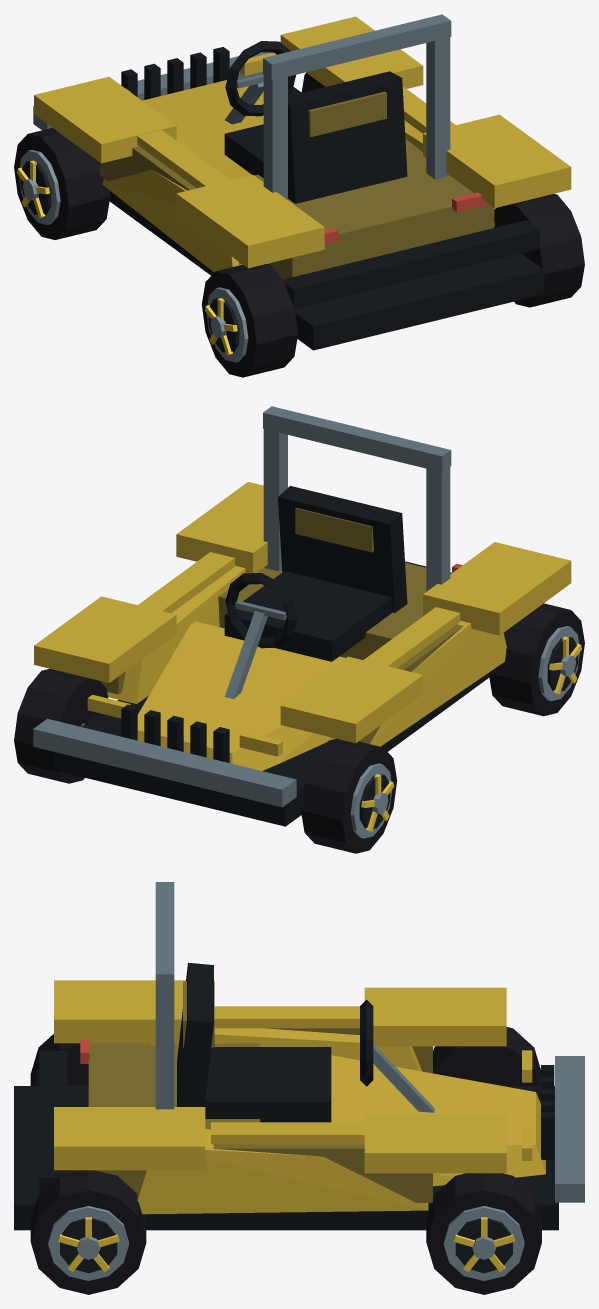
File: kart.glb
3 renders of one model, top to bottom at view 1: azimuth 30°, elevation 25°; view 2: azimuth 150°, elevation 25°; view 3: azimuth 270°, elevation 25°, orthographic. The views are drawn at different scales.
Visible parts, largest first — view 1: chassis, wheel-rear-left, wheel-front-left, wheel-rear-right; view 2: chassis, wheel-front-left, wheel-rear-left, wheel-front-right; view 3: chassis, wheel-rear-right, wheel-front-right, wheel-front-left, wheel-rear-left.
Part boxes in pixels (box(x1,y1,x2,y2)): chassis: box(33, 14, 571, 350); wheel-rear-left: box(201, 263, 297, 377); wheel-front-left: box(14, 128, 110, 239); wheel-rear-right: box(494, 194, 584, 307); chassis: box(33, 406, 571, 826); wheel-front-left: box(301, 738, 397, 853); wheel-rear-left: box(488, 603, 584, 716); wheel-front-right: box(14, 668, 108, 783); chassis: box(14, 882, 584, 1230); wheel-rear-right: box(30, 1170, 146, 1294); wheel-front-right: box(426, 1173, 541, 1294); wheel-front-left: box(433, 1027, 540, 1085); wheel-rear-left: box(30, 1034, 88, 1085).
Bounding box in the file's own units: 2.31 × 1.67 × 3.06.
